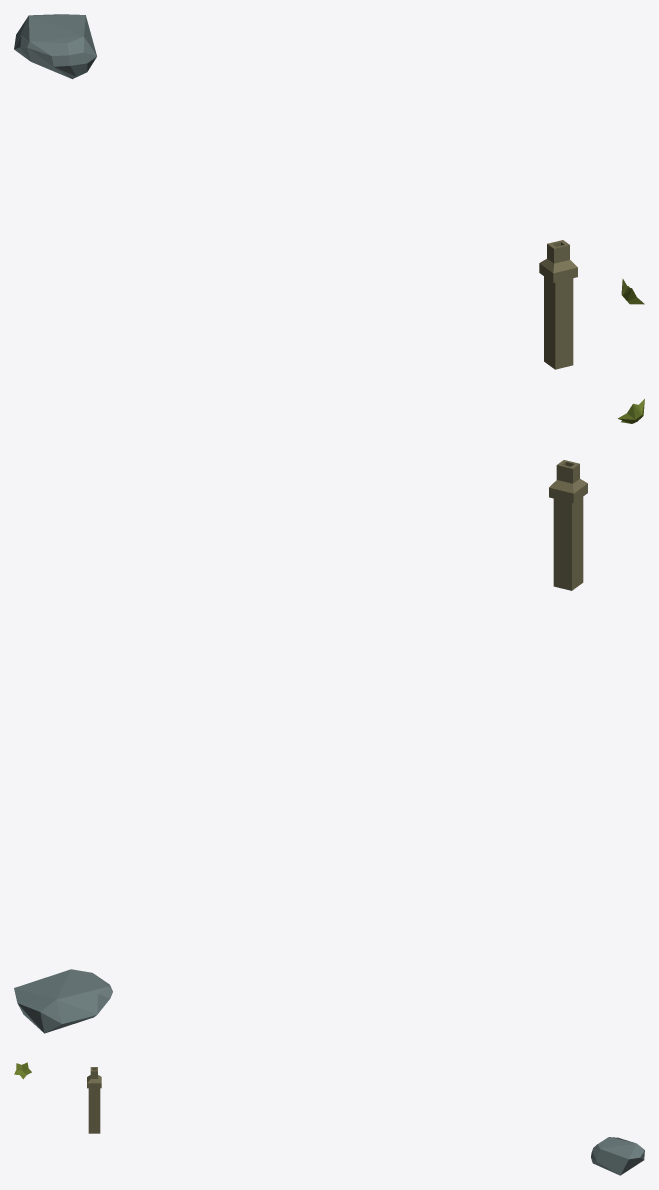
The picture shows the model from 3 angles, top to bottom: view 1: azimuth 30°, elevation 25°; view 2: azimuth 150°, elevation 25°; view 3: azimuth 270°, elevation 25°; orthographic projection. The views are drawn at different scales.
Parts seen in each view (by area): view 1: Box900_rock_0, Box15382_rock2_0; view 2: Box900_rock_0, Box15382_rock2_0; view 3: Box900_rock_0, Box15382_rock2_0.
Part boxes in pixels (x1,y1,x2,y2): Box900_rock_0: (14, 14, 96, 79); Box15382_rock2_0: (539, 240, 577, 369); Box900_rock_0: (14, 969, 112, 1033); Box15382_rock2_0: (549, 460, 587, 590); Box900_rock_0: (591, 1137, 644, 1175); Box15382_rock2_0: (87, 1067, 101, 1133).
Bounding box in the file's own units: 300 × 711 × 3901.
